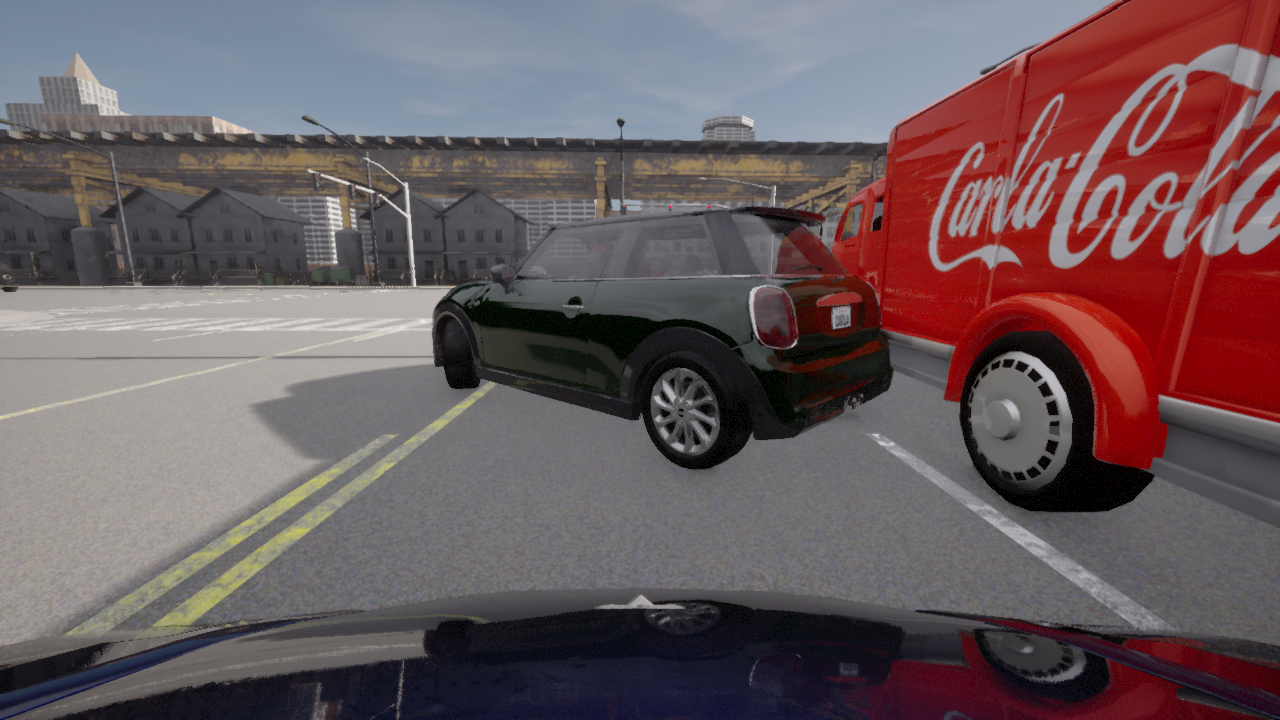cyclist: (809, 0, 1279, 527), (0, 588, 1279, 719), (432, 193, 892, 469), (480, 263, 515, 279)
